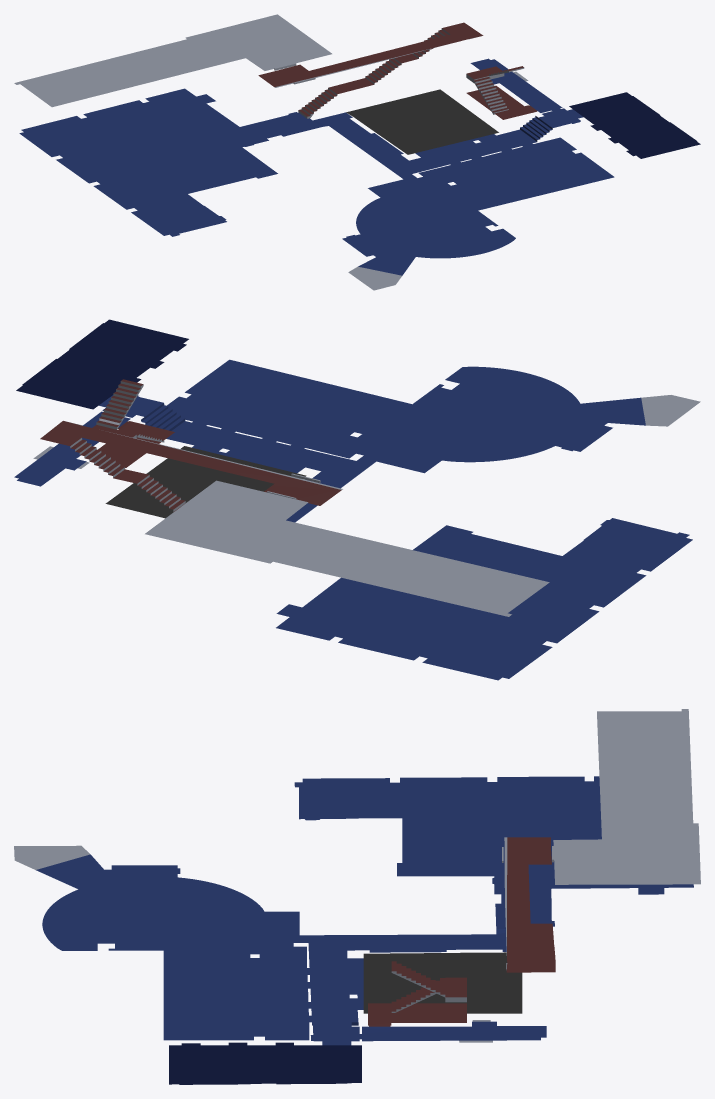
The model's file is rc0_Nav.fbx.
3 views of the same model, one above another, from view 1: azimuth 30°, elevation 25°; view 2: azimuth 150°, elevation 25°; view 3: azimuth 270°, elevation 25° (orthographic). The views are drawn at different scales.
Visible parts, largest first — view 1: rc_nav; view 2: rc_nav; view 3: rc_nav.
Boxes of the visible parts, x1,y1,x2,y2 form: rc_nav: (14, 14, 700, 290); rc_nav: (14, 319, 700, 680); rc_nav: (14, 709, 700, 1084).
Bounding box in the file's own units: 4720 × 457 × 4246.
